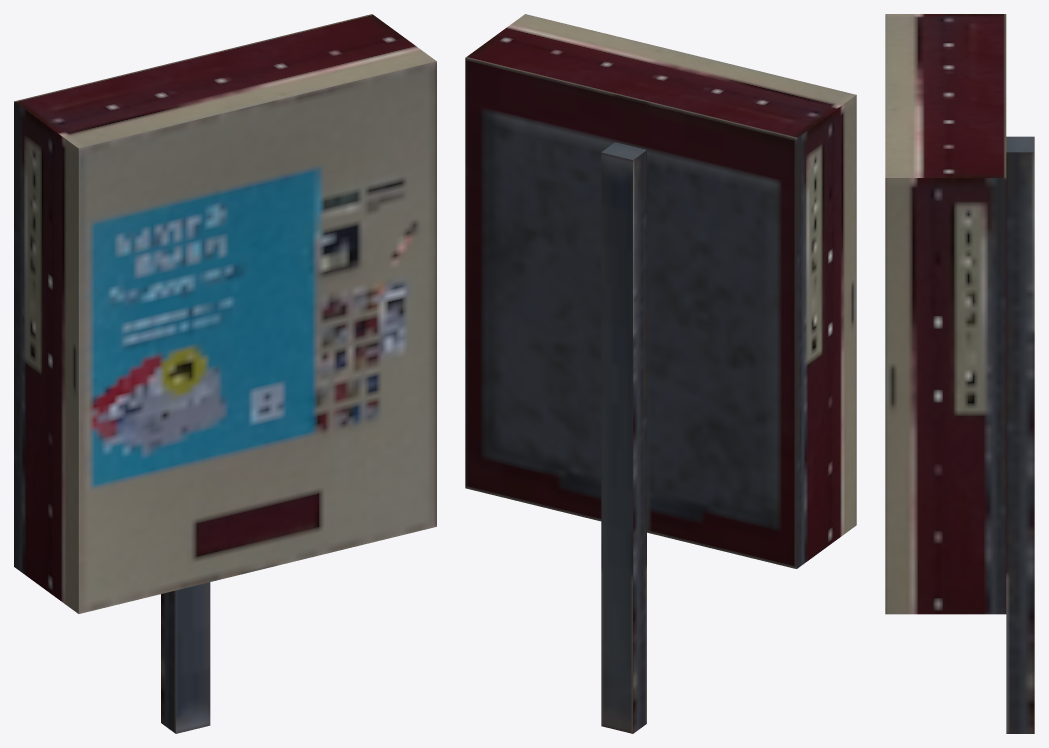
File: VendingMachineCigarettes01.obj
3 views of the same model, side by side, from view 1: azimuth 30°, elevation 25°; view 2: azimuth 150°, elevation 25°; view 3: azimuth 270°, elevation 25° (orthographic). The views are drawn at different scales.
Visible parts, largest first — view 1: VendingMachineCigarettes01; view 2: VendingMachineCigarettes01; view 3: VendingMachineCigarettes01.
Part boxes in pixels (bbox=[...]): VendingMachineCigarettes01: bbox=[14, 14, 436, 733]; VendingMachineCigarettes01: bbox=[465, 14, 856, 733]; VendingMachineCigarettes01: bbox=[885, 14, 1034, 733].
Size of the model in its own units: 1.67 by 2.99 by 0.6434.
